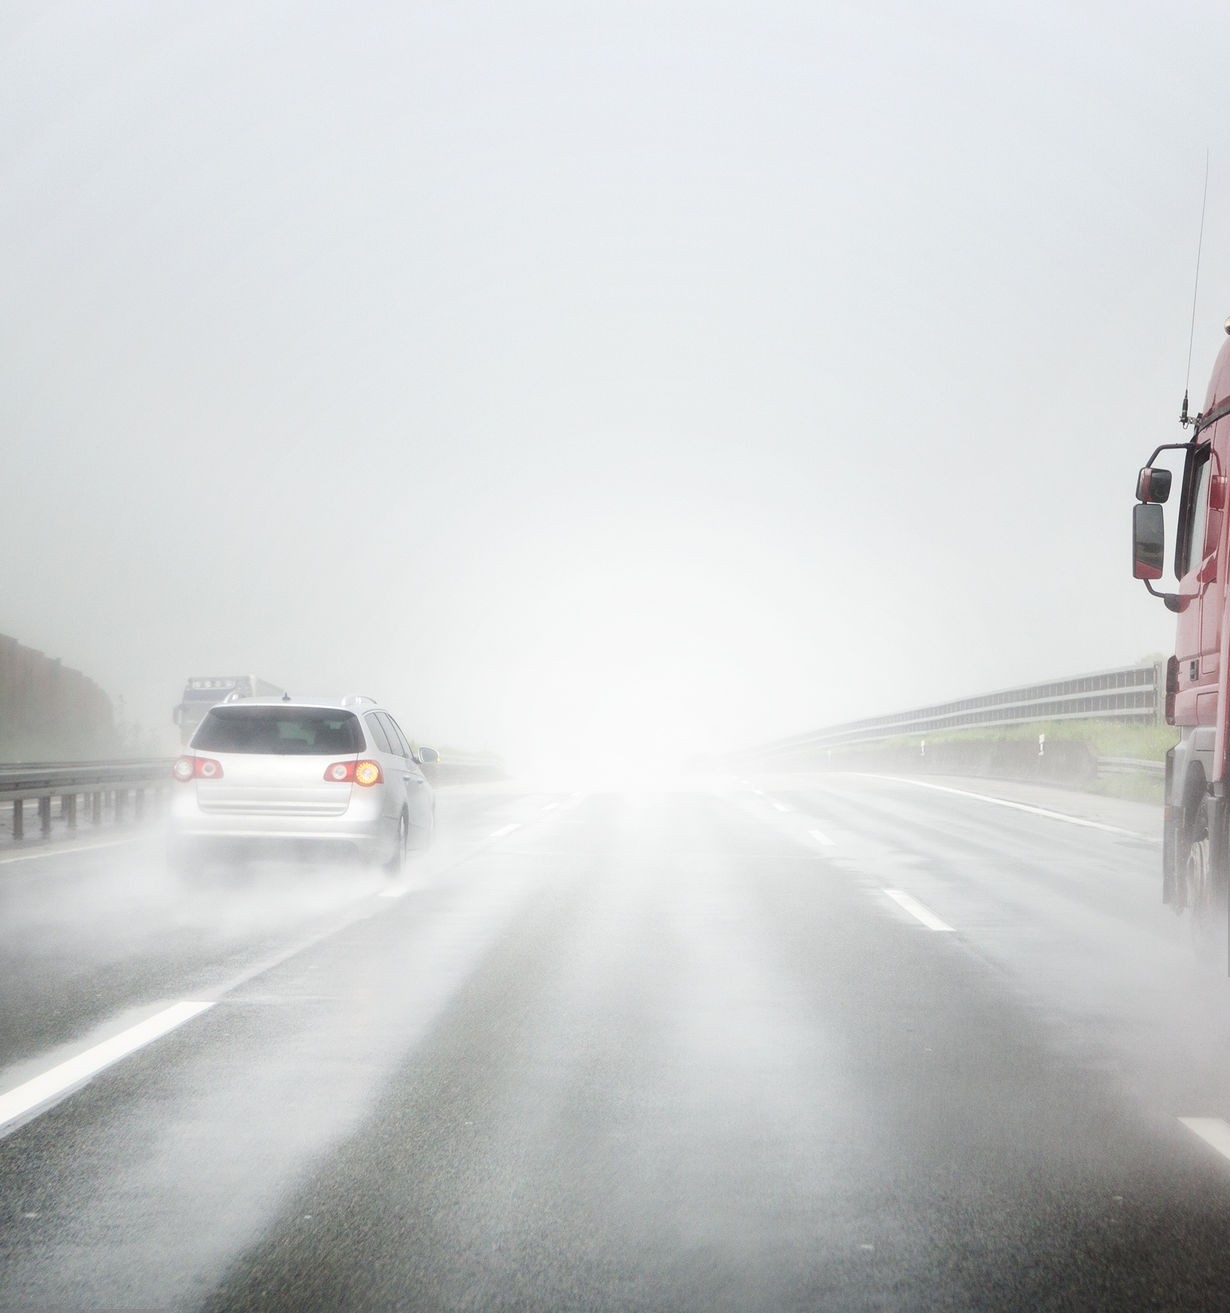bus: (171, 668, 283, 742)
car: (166, 693, 442, 869)
truck: (1132, 311, 1229, 971)
